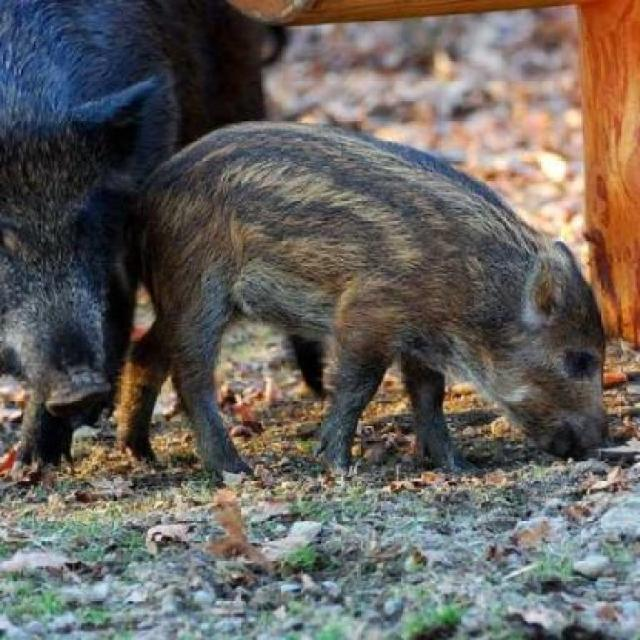WildBoar: (118, 82, 639, 573)
